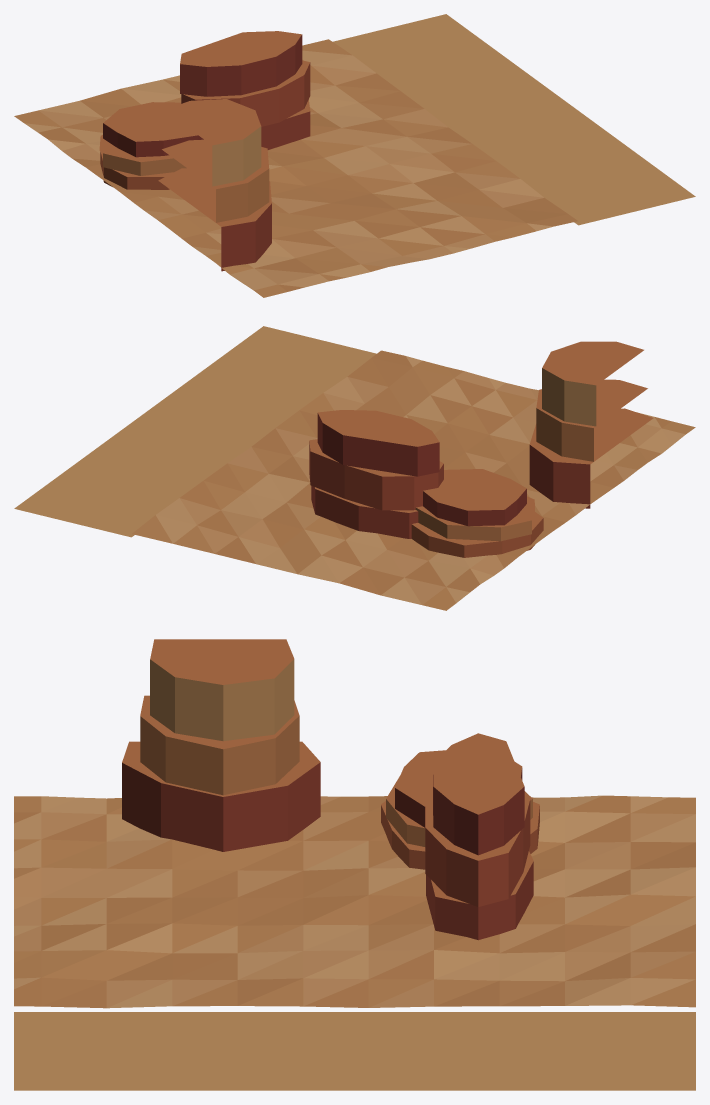
The picture shows the model from 3 angles, top to bottom: view 1: azimuth 30°, elevation 25°; view 2: azimuth 150°, elevation 25°; view 3: azimuth 270°, elevation 25°; orthographic projection. The views are drawn at different scales.
Parts seen in each view (by area): view 1: baked; view 2: baked; view 3: baked.
Part boxes in pixels (<box>): baked: <box>14,14,695,297</box>; baked: <box>14,326,695,610</box>; baked: <box>14,639,695,1090</box>.
Bounding box in the file's own units: 125 × 32.92 × 125.
